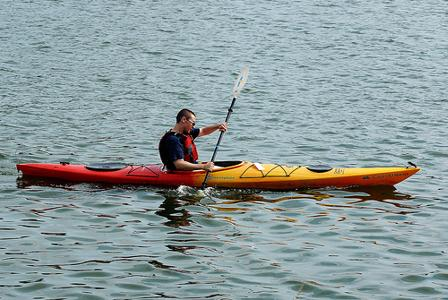person: (158, 109, 228, 174)
